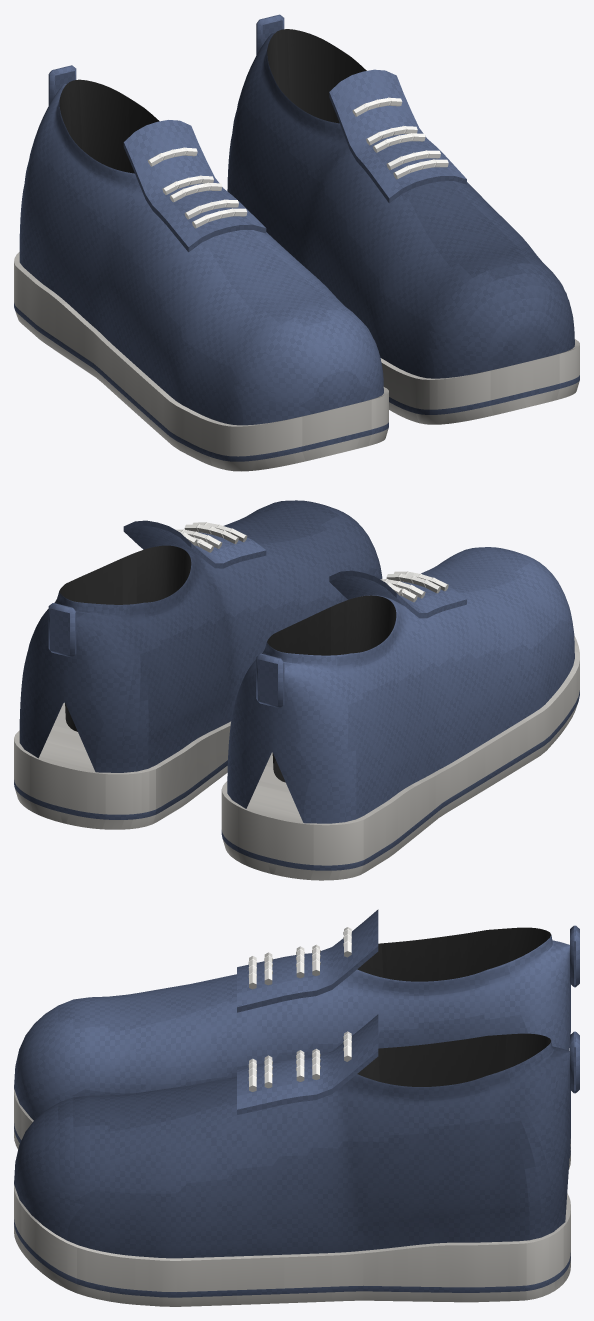
Rendered from shoes_pair.glb.
3 renders of one model, top to bottom at view 1: azimuth 30°, elevation 25°; view 2: azimuth 150°, elevation 25°; view 3: azimuth 270°, elevation 25°, orthographic. The views are drawn at different scales.
Parts seen in each view (by area): view 1: body; view 2: body; view 3: body.
Boxes of the visible parts, left/top/right/bottom form: body: left=14, top=14, right=579, bottom=471; body: left=14, top=500, right=579, bottom=880; body: left=14, top=909, right=579, bottom=1306.
Size of what is drawn, in the model's own units: 0.2233 by 0.1334 by 0.2795.
4 materials, 2 textured.
